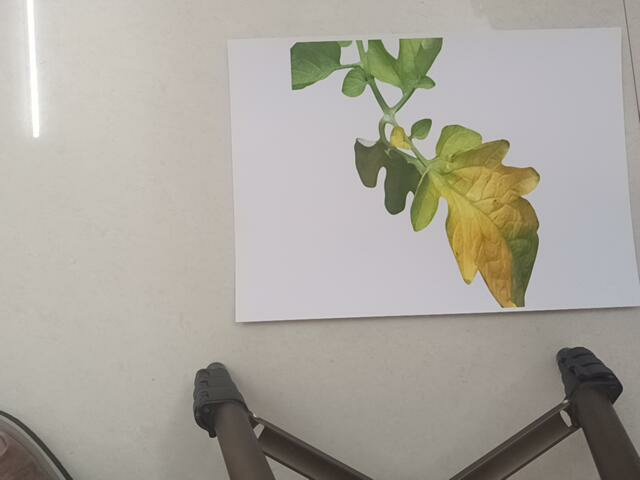Tomamto_Yellow_Disease: (281, 39, 566, 311)
